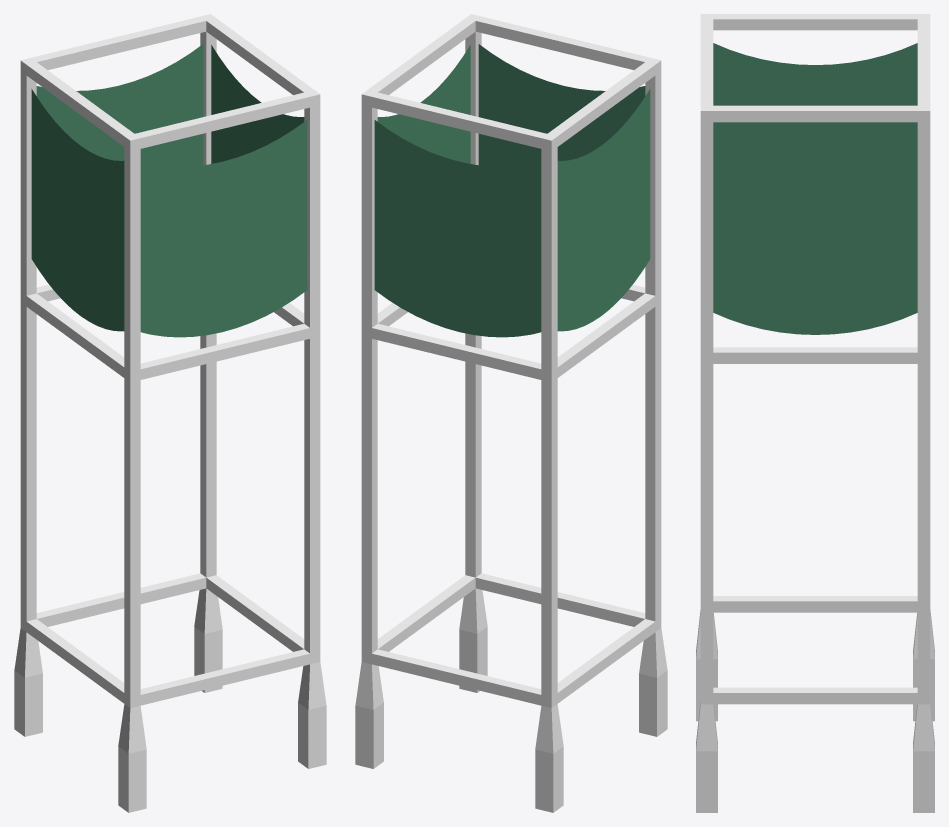
The model's file is banner-tower-green.glb.
3 renders of one model, left to right at view 1: azimuth 30°, elevation 25°; view 2: azimuth 150°, elevation 25°; view 3: azimuth 270°, elevation 25°, orthographic. The views are drawn at different scales.
Visible parts, largest first — view 1: bannerTowerGreen(Clone); view 2: bannerTowerGreen(Clone); view 3: bannerTowerGreen(Clone).
Boxes of the visible parts, x1=… form: bannerTowerGreen(Clone): x1=14, y1=14, x2=326, y2=812; bannerTowerGreen(Clone): x1=355, y1=14, x2=667, y2=812; bannerTowerGreen(Clone): x1=696, y1=14, x2=934, y2=812.
Bounding box in the file's own units: 0.3852 × 1.25 × 0.3852.
